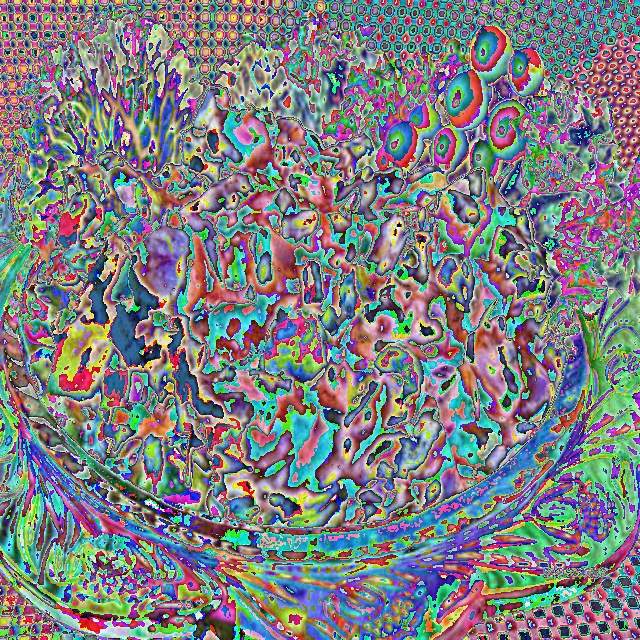background: (8, 2, 639, 528)
